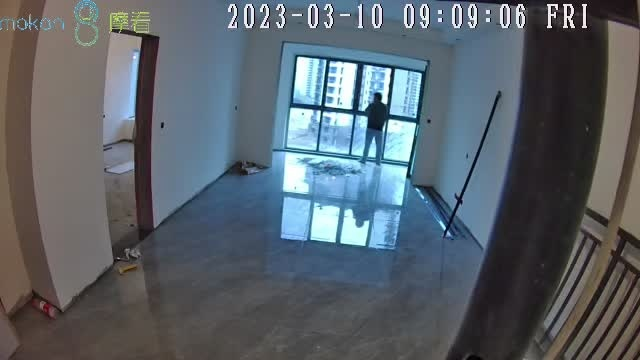people: (360, 93, 387, 166)
window: (285, 54, 423, 165)
